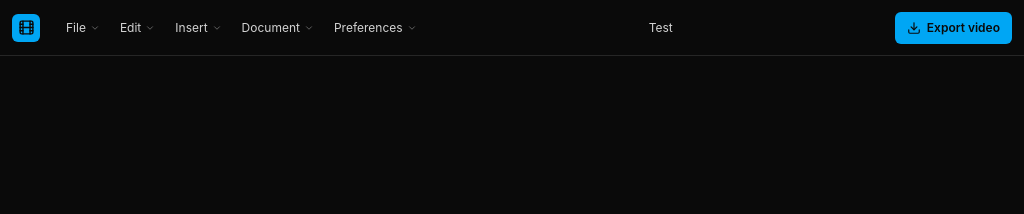
Test: Desktop editor menus › keeps export visible and secondary actions inside menus
The width and height of the screenshot is (1024, 214).
Click the button "File" at (83, 28), box [56, 14, 110, 42]
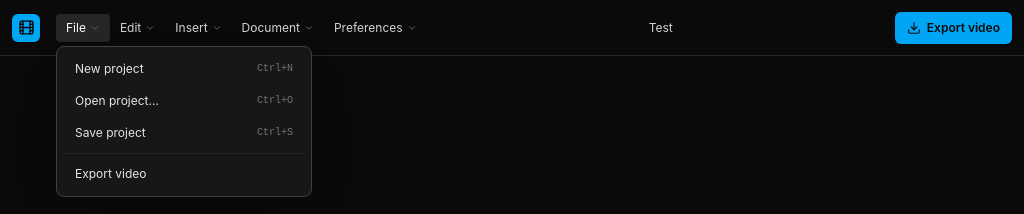
Now the text "New project" is shown, box [75, 60, 144, 76]
Now the text "Open project…" is shown, box [75, 92, 159, 108]
Now the text "Save project" is shown, box [75, 124, 146, 140]
Click the button "Document" at (278, 28), box [232, 14, 324, 42]
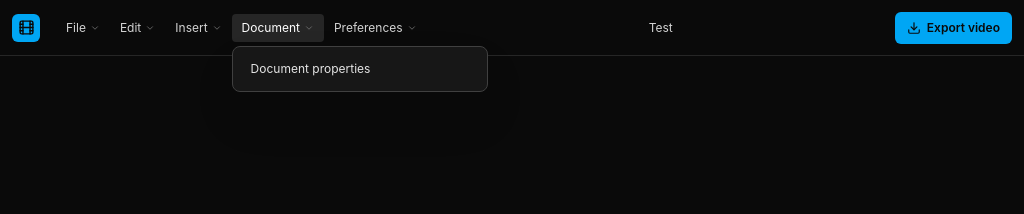
Now the menu item "Document properties" is shown
Click the menu item "Document properties" at (360, 68), box [239, 52, 481, 84]
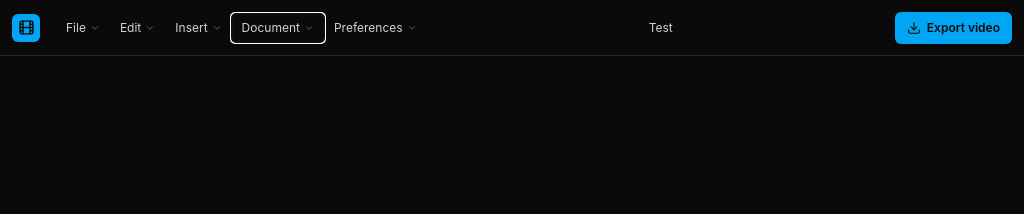
Now the menu is gone
